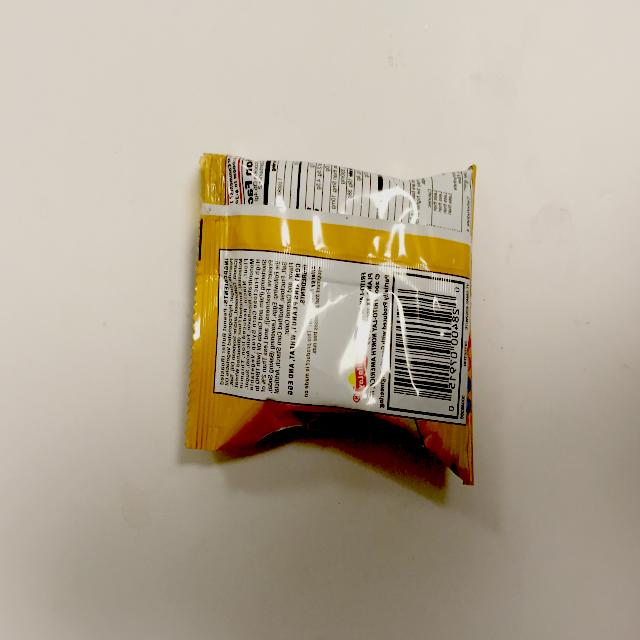Plastic: (150, 132, 492, 526)
